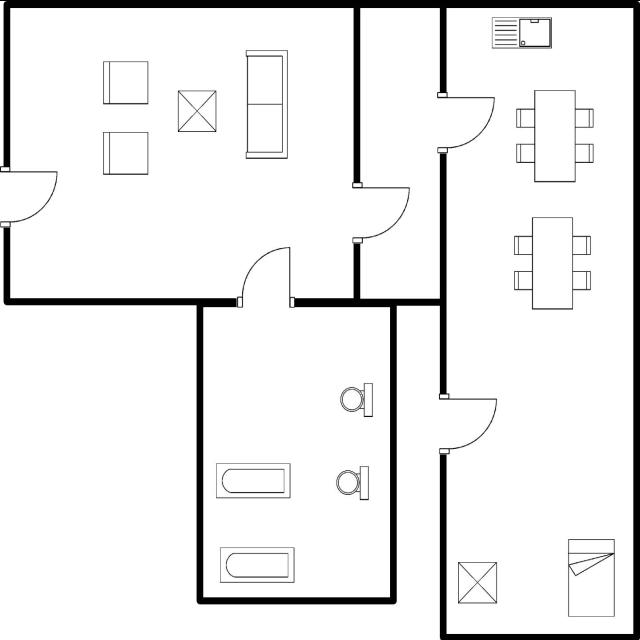bed: (563, 533, 619, 621)
coffee_table: (170, 84, 222, 140), (452, 556, 502, 608)
dining_table: (506, 212, 596, 316), (512, 83, 598, 189)
large_sink: (332, 459, 374, 505), (334, 380, 376, 420)
large_sofa: (240, 44, 294, 164)
sink: (487, 11, 558, 55)
small_sofa: (100, 55, 154, 110), (99, 128, 152, 180)
tub: (216, 542, 300, 588), (212, 459, 295, 503)
